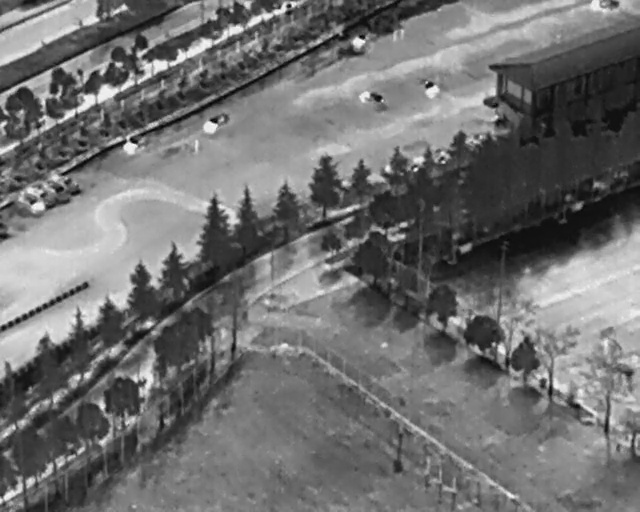Car: (356, 83, 390, 118), (25, 178, 59, 211), (17, 188, 49, 222), (197, 109, 231, 139), (42, 177, 73, 209), (347, 26, 375, 54), (54, 171, 82, 198), (123, 135, 147, 158), (424, 79, 440, 99)
Person: (192, 138, 200, 154), (393, 26, 399, 43), (399, 28, 405, 40)
